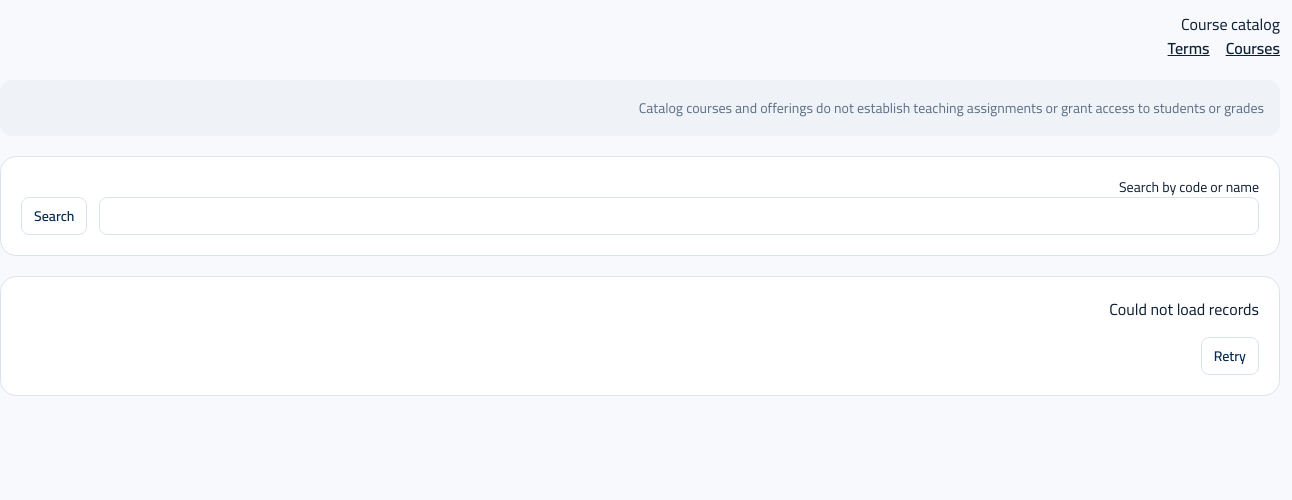
it: Admin and Teacher academic reference workflows › offers retry after a network error and never displays a false empty state
The image size is (1292, 500).
Click the button "Retry": (1230, 356) [1201,337,1259,375]
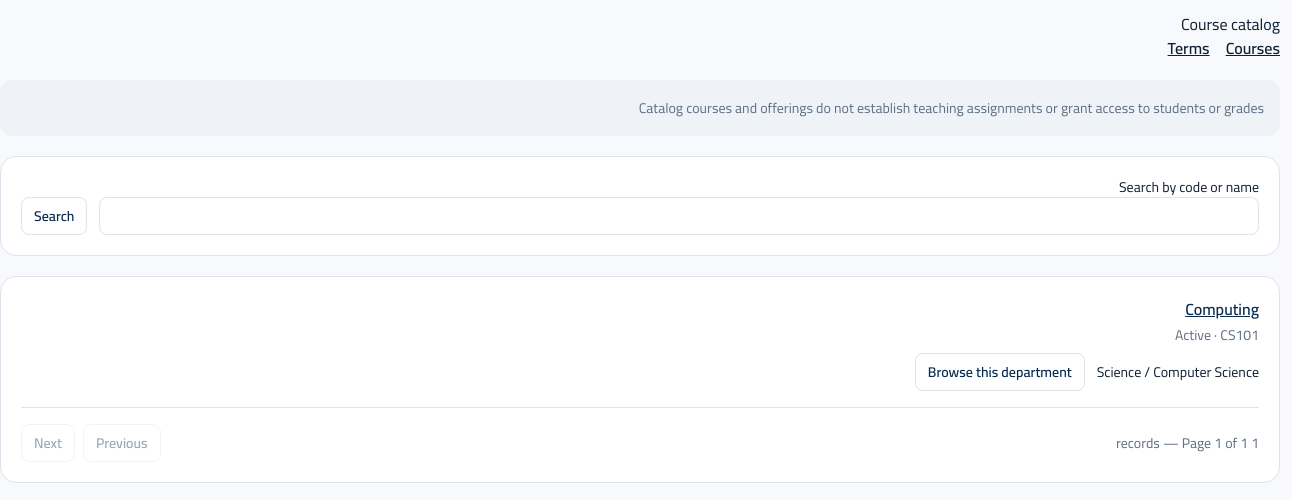
Expected: the link "Computing" is shown, [1185,294,1259,324]
